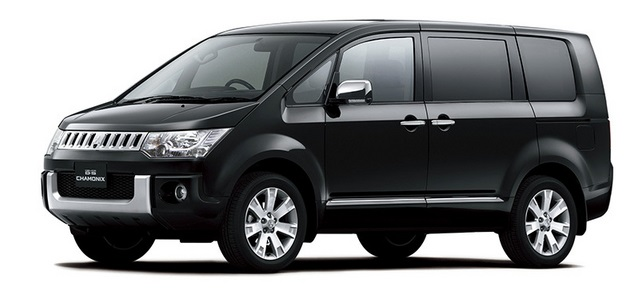van: (39, 17, 616, 274)
